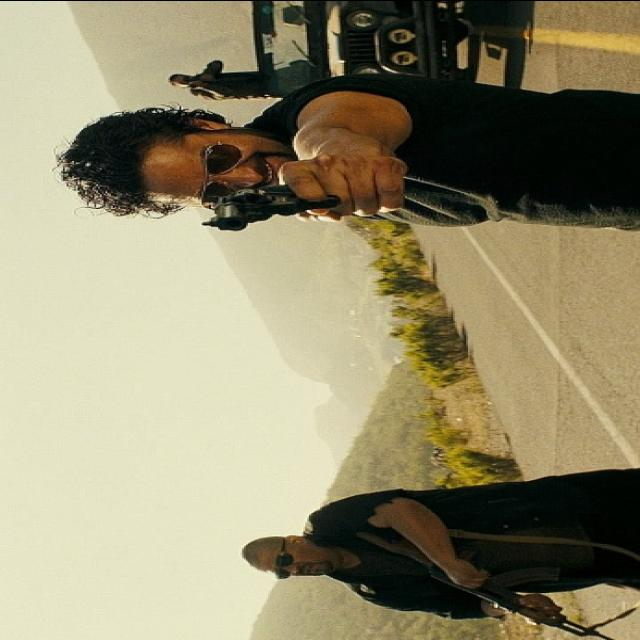weapons: (334, 498, 630, 640), (179, 164, 430, 244)
